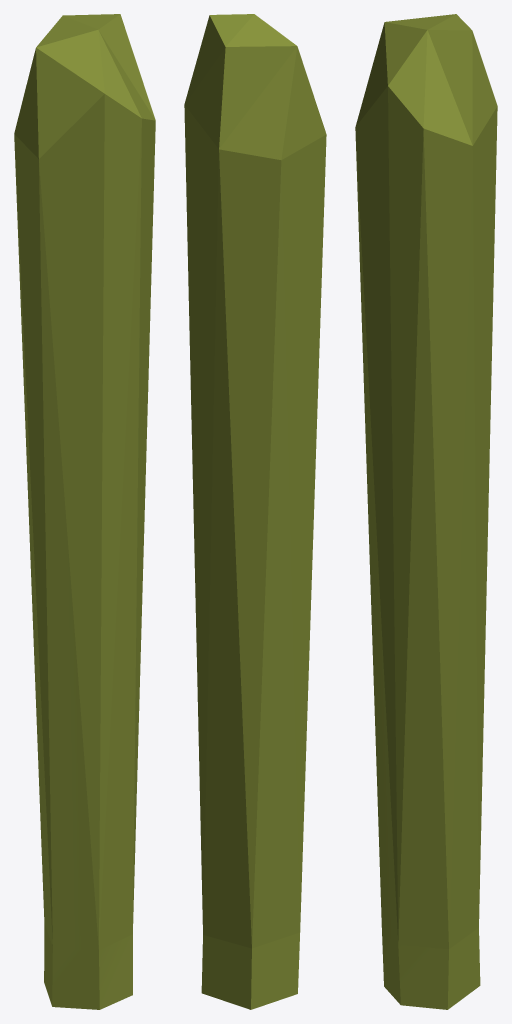
Rendered from ea_swamp_grass_01a_pre__30__lev1.glb.
The picture shows the model from 3 angles, left to right: view 1: azimuth 30°, elevation 25°; view 2: azimuth 150°, elevation 25°; view 3: azimuth 330°, elevation 25°; orthographic projection.
Parts seen in each view (by area): view 1: ea_swamp_grass_01a_pre__30__lev1; view 2: ea_swamp_grass_01a_pre__30__lev1; view 3: ea_swamp_grass_01a_pre__30__lev1.
Part boxes in pixels (box(x1,y1,x2,y2)): ea_swamp_grass_01a_pre__30__lev1: box(14, 14, 155, 1009); ea_swamp_grass_01a_pre__30__lev1: box(184, 14, 326, 1009); ea_swamp_grass_01a_pre__30__lev1: box(355, 14, 497, 1009).
Size of the model in its own units: 0.2305 by 1.82 by 0.2299.
Materials: 1 (1 with a texture image).
